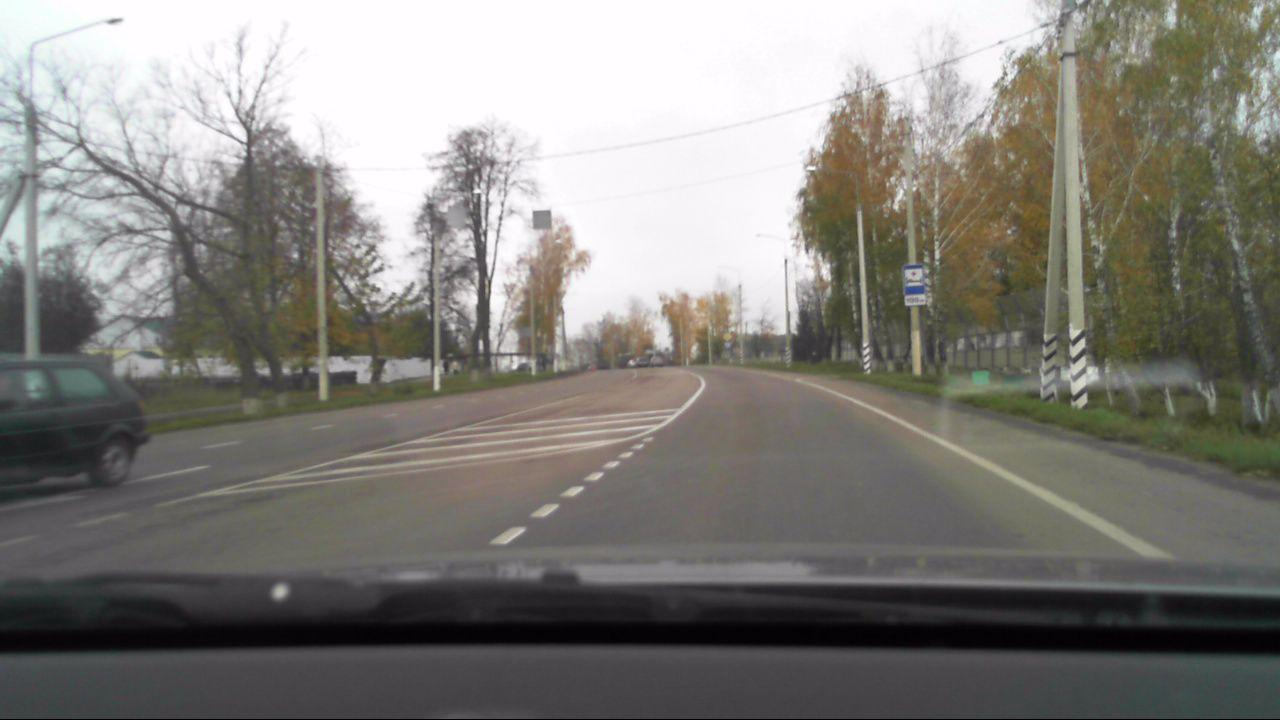7_2: (902, 264, 927, 306)
